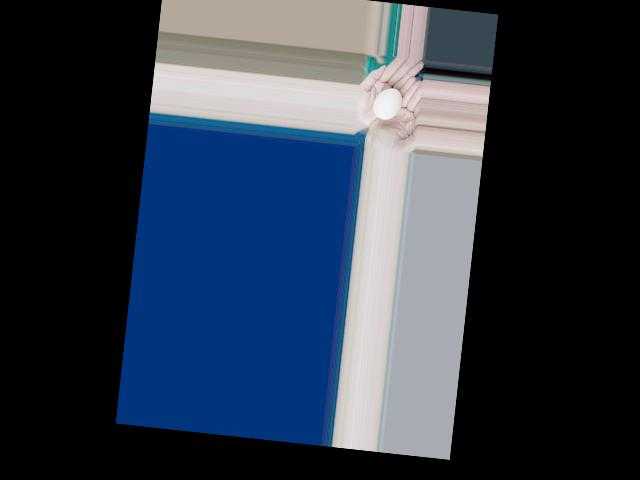egg: (372, 86, 403, 120)
